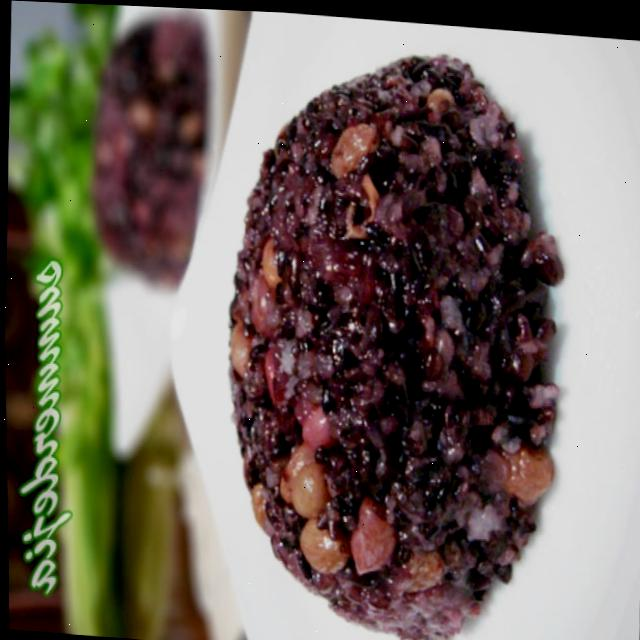米饭主食: (166, 14, 634, 640)
